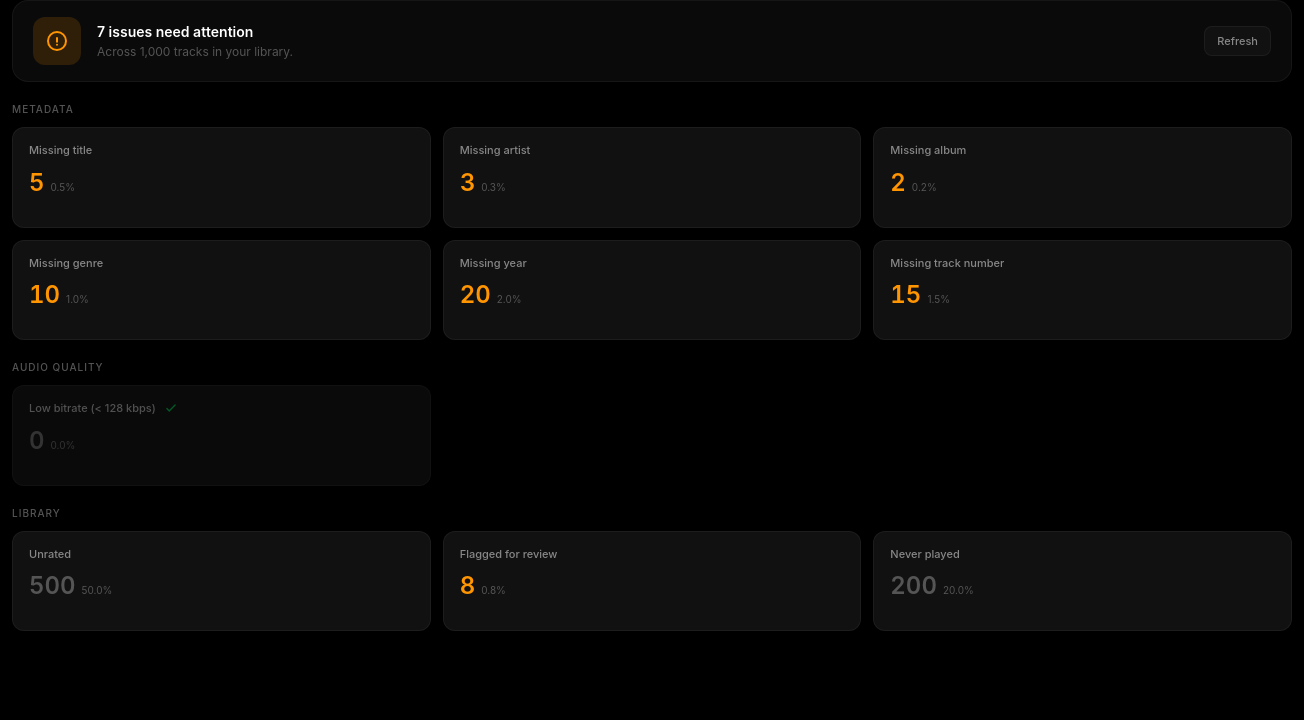
Scenario: LibraryHealthDashboard › allows refreshing the health report
Expected: the text "Missing title" is shown, [29,142,92,158]
Click the button "Refresh".
click(1238, 41)  # box [1204,26,1271,56]
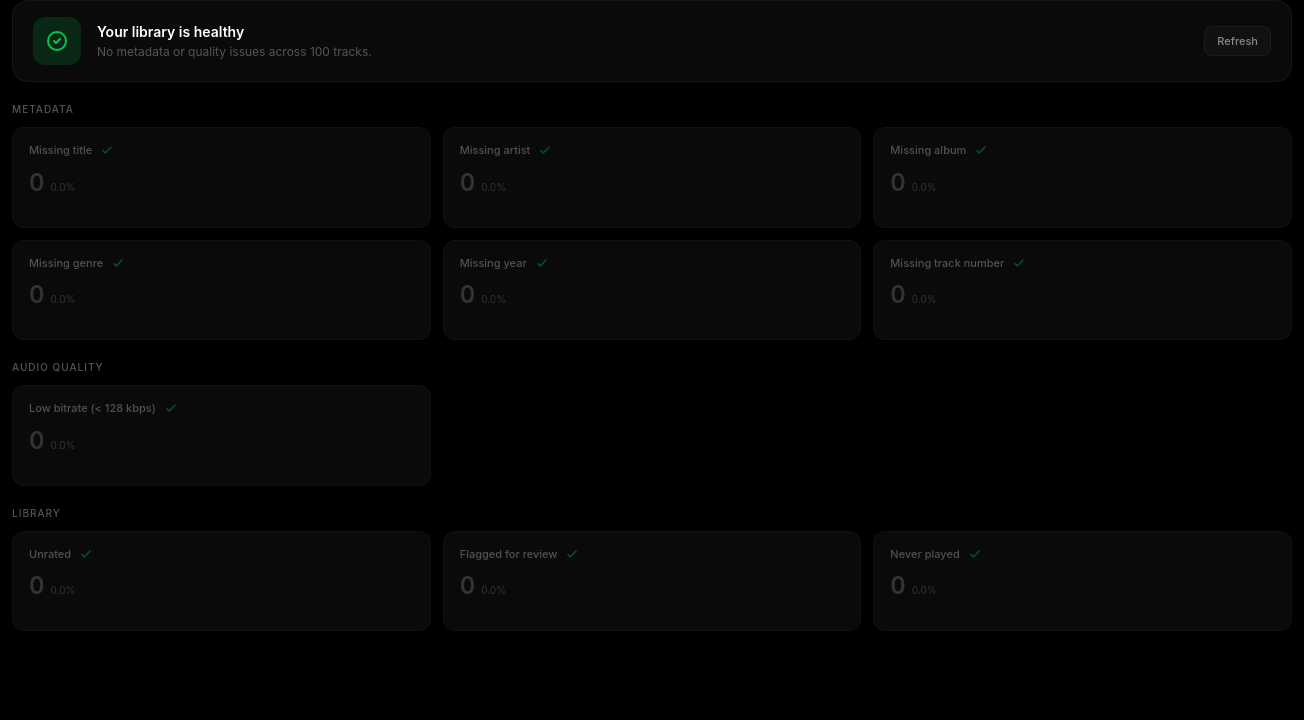
Now the heading "Your library is healthy" is shown, box [97,23,244,40]
